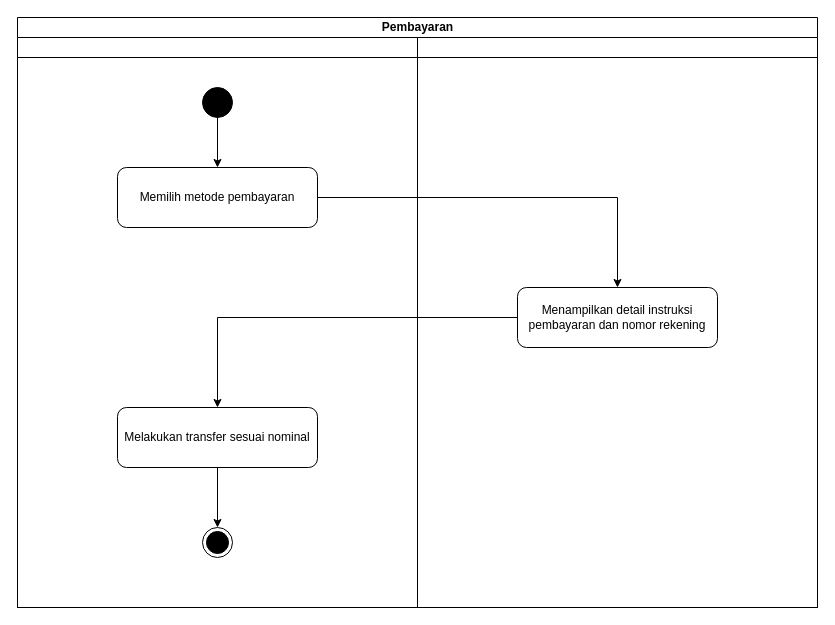
This 835x625 diagram has some shape labels left out. Each missing label, with the box of its shape:
Pengguna: (16, 36, 418, 608)
Sistem: (416, 36, 818, 608)
